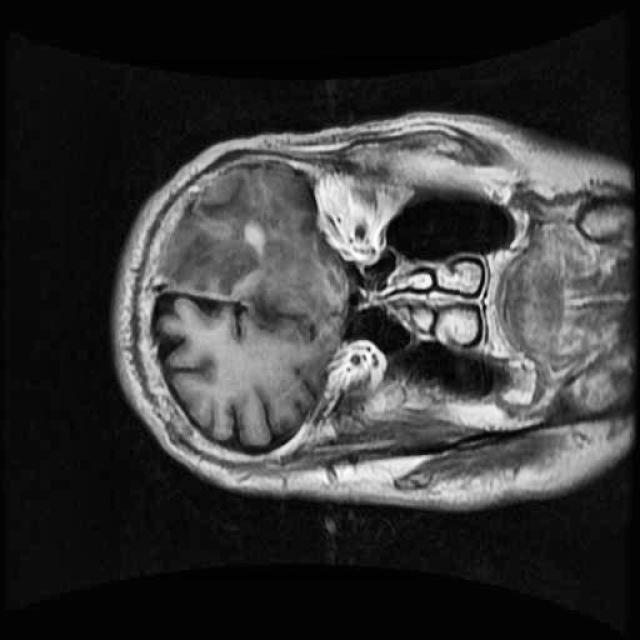Tumor: (138, 149, 351, 355)
